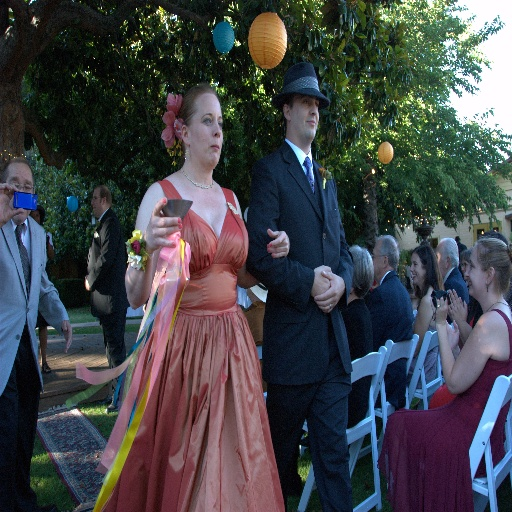hand: (136, 206, 173, 262), (313, 270, 345, 314), (0, 181, 24, 227), (446, 286, 468, 328), (265, 228, 291, 259), (311, 265, 331, 298), (429, 296, 449, 326), (446, 316, 460, 351), (61, 319, 73, 355), (84, 278, 88, 291)
